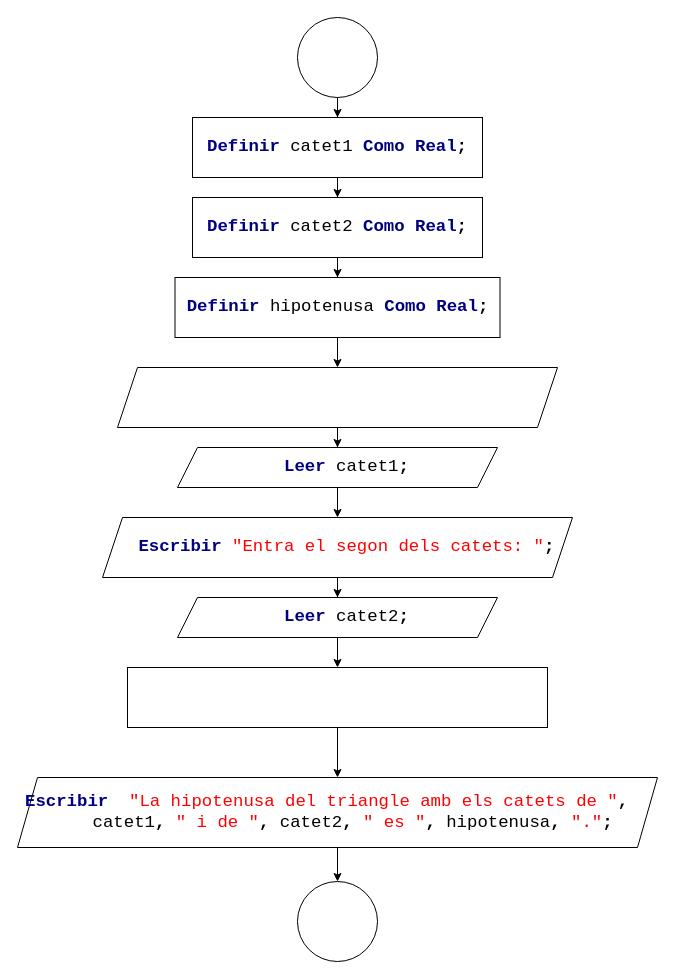
This 675x979 diagram has some shape labels left out. Each missing label, with the box of its shape:
Escribir "Entra el primer dels catets: " ;: (116, 366, 558, 428)
Final: (296, 880, 378, 962)
hipotenusa <- Raiz ( catet1 ^ 2 + catet2 ^ 2 );: (126, 666, 548, 728)
Inici: (296, 16, 378, 98)
